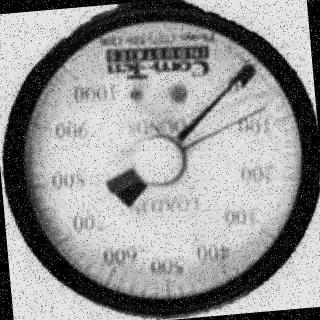gauge: (0, 0, 320, 320), (130, 130, 189, 190), (220, 40, 266, 98), (50, 48, 94, 96), (226, 69, 246, 90), (251, 100, 270, 118)
